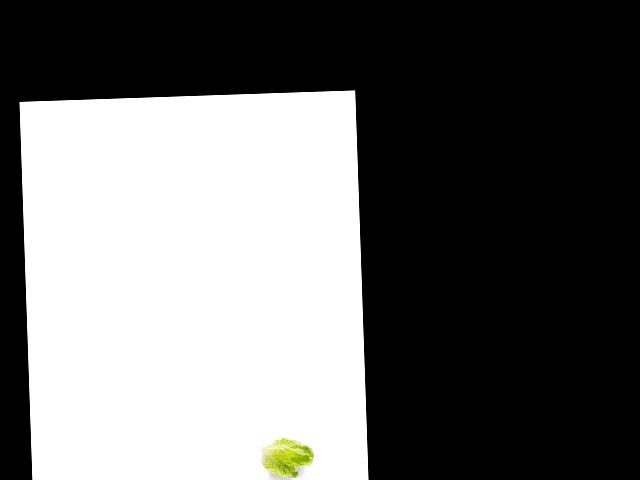lettuce: (255, 435, 317, 479)
